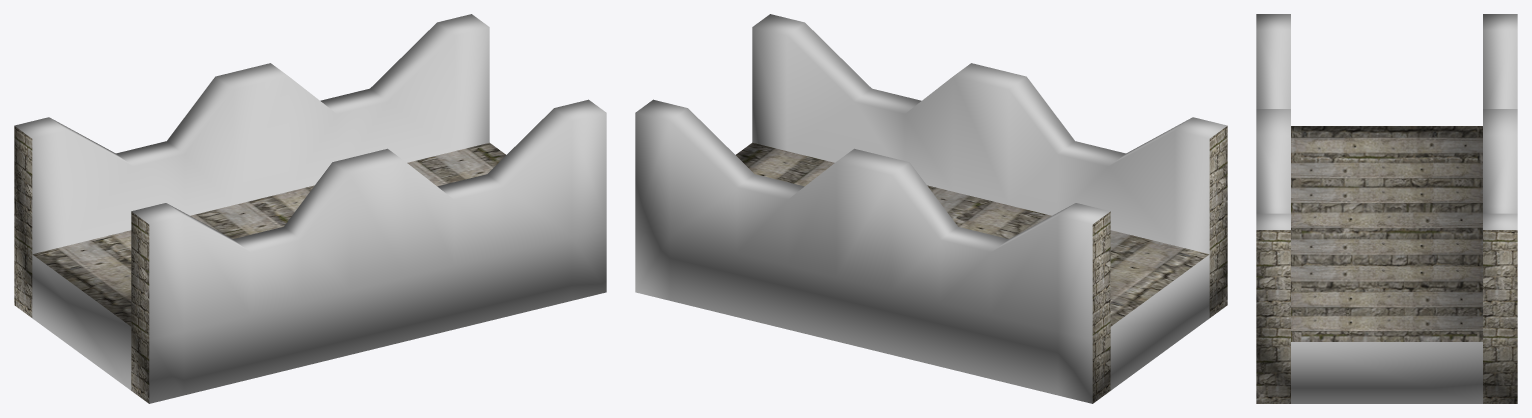
File: Battlement_1.fbx
3 views of the same model, side by side, from view 1: azimuth 30°, elevation 25°; view 2: azimuth 150°, elevation 25°; view 3: azimuth 270°, elevation 25° (orthographic). The views are drawn at different scales.
Parts seen in each view (by area): view 1: Battlement_1; view 2: Battlement_1; view 3: Battlement_1.
Part boxes in pixels (x1,y1,x2,y2): Battlement_1: [14, 14, 606, 403]; Battlement_1: [635, 14, 1227, 403]; Battlement_1: [1256, 14, 1517, 403].
Bounding box in the file's own units: 512 × 192 × 262.
